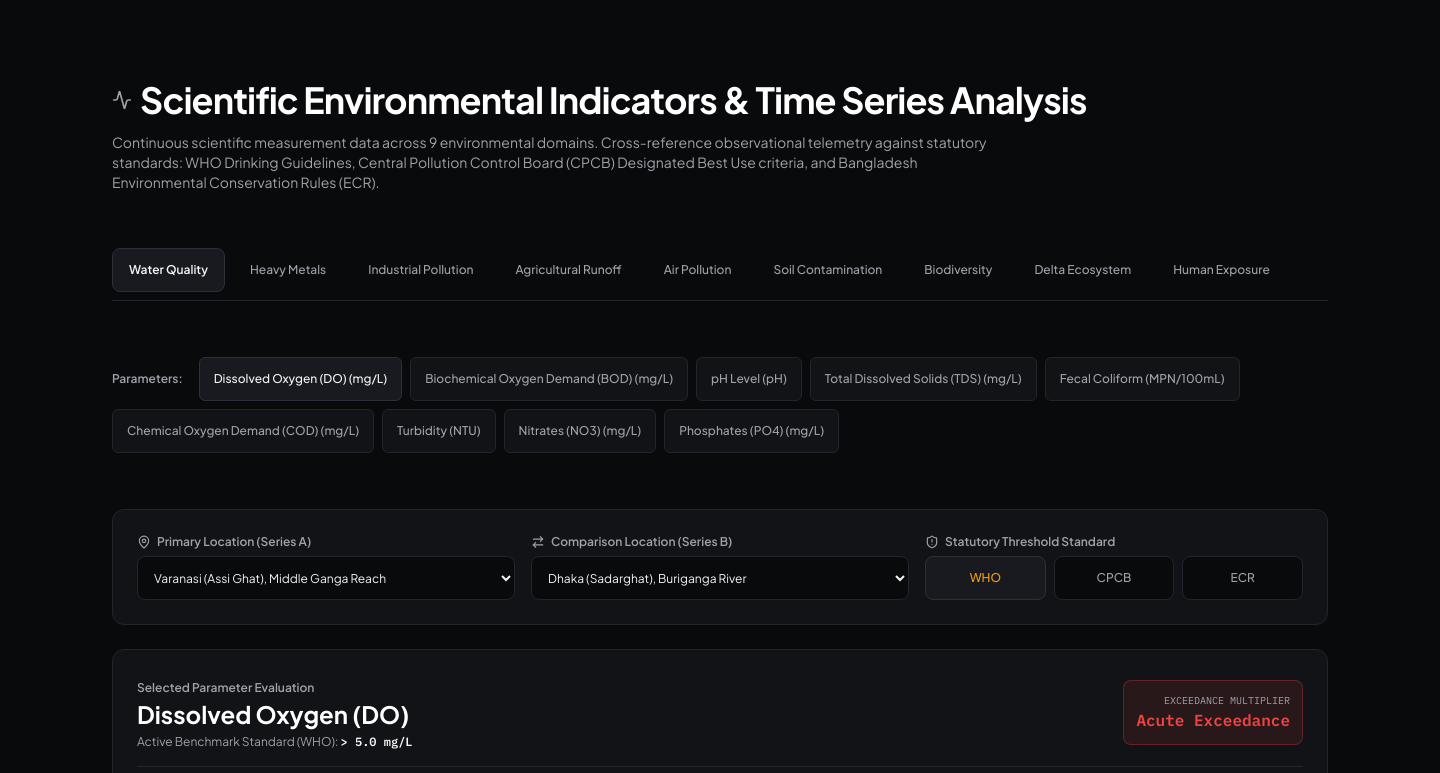
Tier 2: Scientific Environmental Indicators & Visualizations › switches categories and updates parameter pills dynamically
Expected: the button "Dissolved Oxygen (DO) (mg/L)" is shown, [199,357,402,401]
Expected: the button "Biochemical Oxygen Demand (BOD) (mg/L)" is shown, [410,357,688,401]
Switch to Heavy Metals
Click the button "Heavy Metals" at (288, 270), box [233,248,343,292]
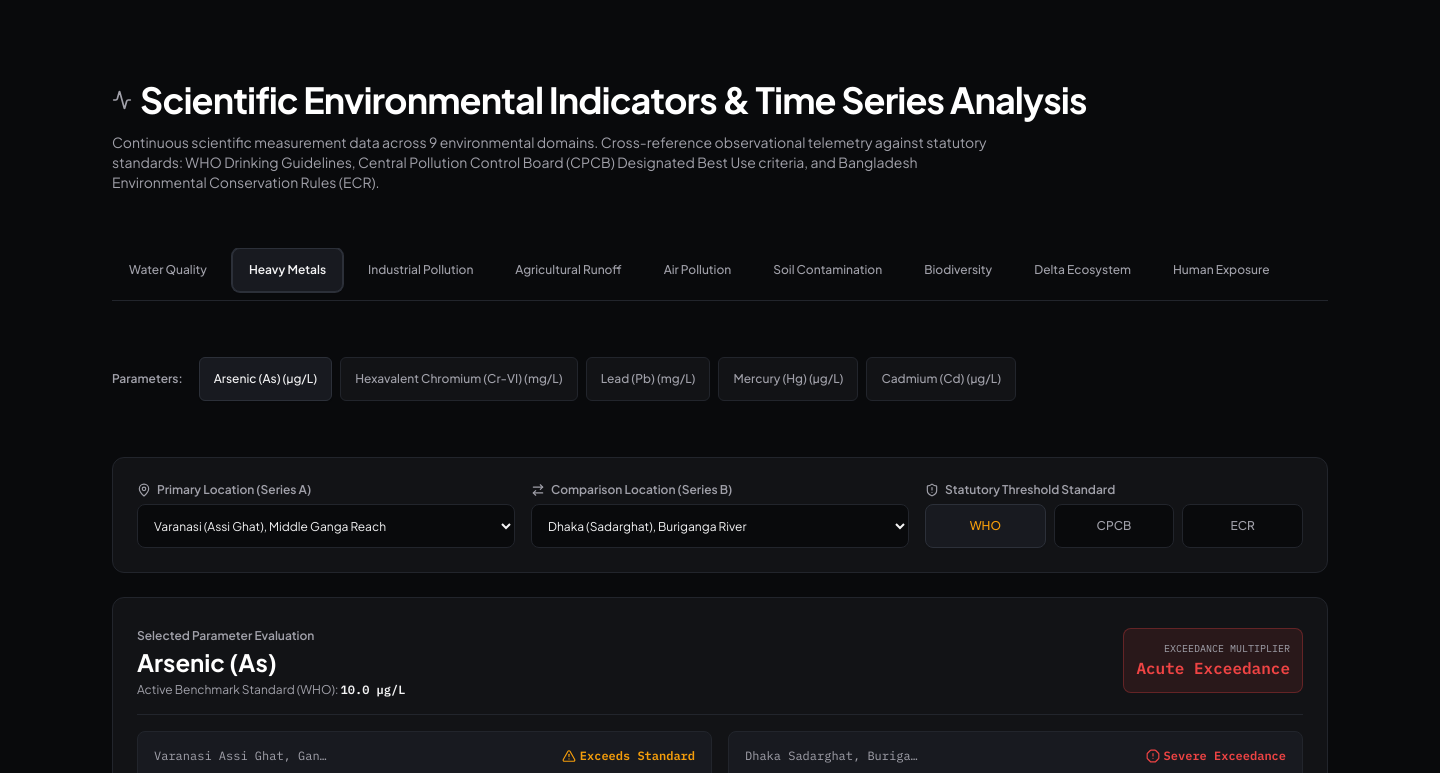
Now the button "Arsenic (As) (µg/L)" is shown, box [199,357,332,401]
Now the button "Hexavalent Chromium (Cr-VI) (mg/L)" is shown, box [340,357,578,401]
Now the button "Lead (Pb) (mg/L)" is shown, box [586,357,710,401]
